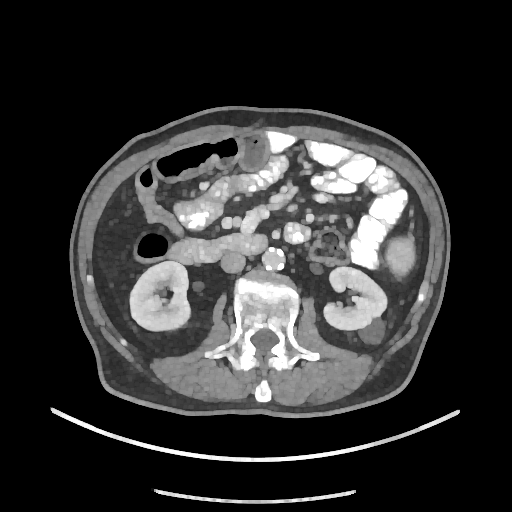Lesion: (354, 315, 385, 349)
